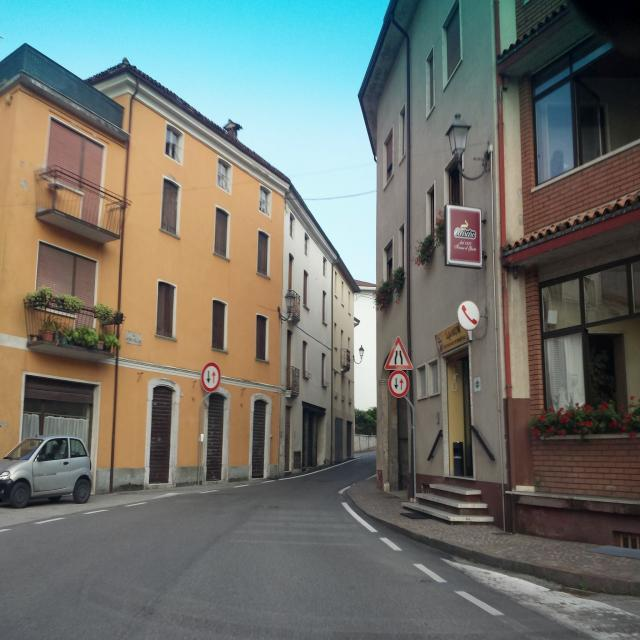car: (0, 434, 94, 509)
